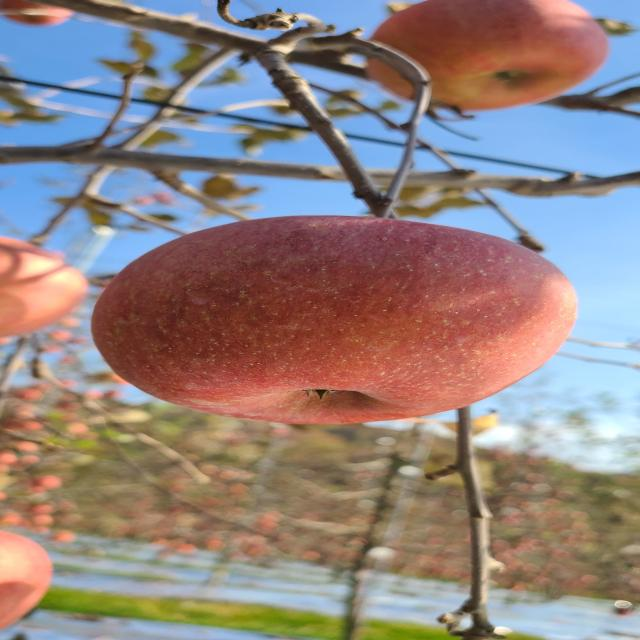fresh: (79, 209, 597, 434)
